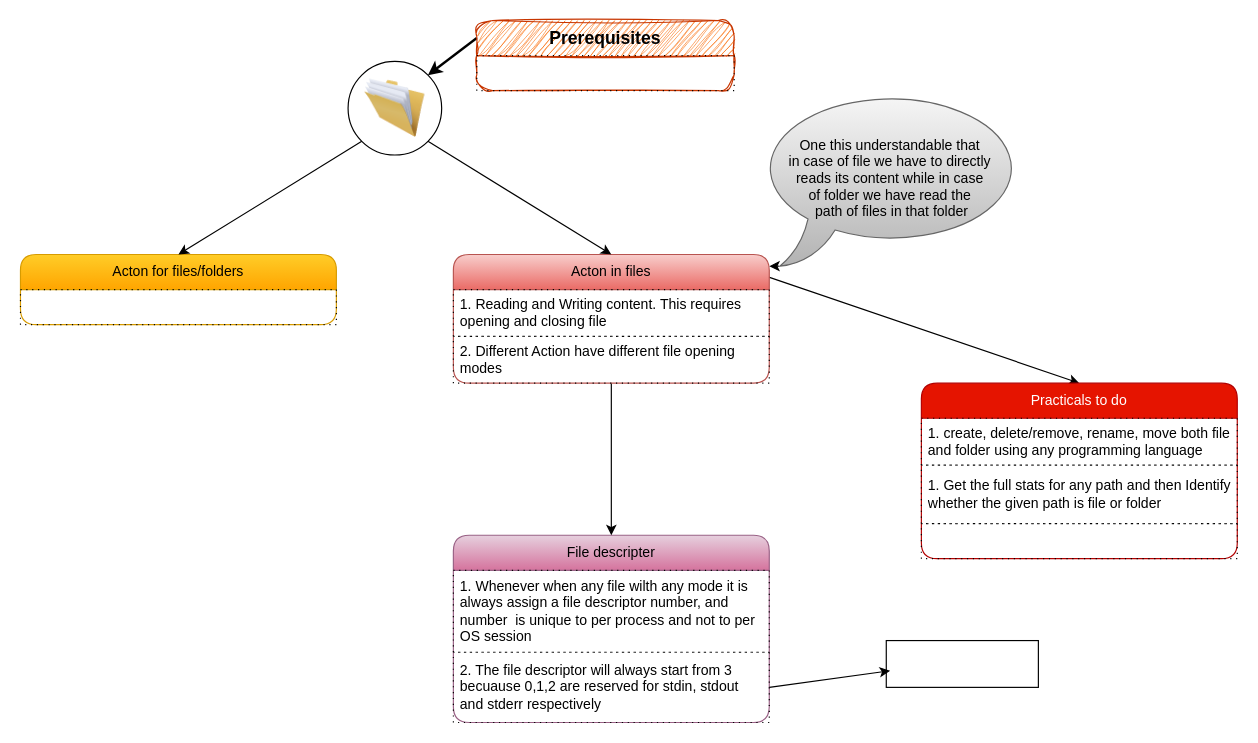
Some shapes in this 1258 by 743 pixel diagram are drawn without their labels. The centre of each missing label's shape, as x and y in pixels:
"1. create, delete/remove, rename, move" goes at point 177,306.
"2. Get the extension part of the given Path" goes at point 1078,540.
"every process has input, output and err" goes at point 961,663.
"Should about path systems ( ps.svg )" goes at point 605,72.
